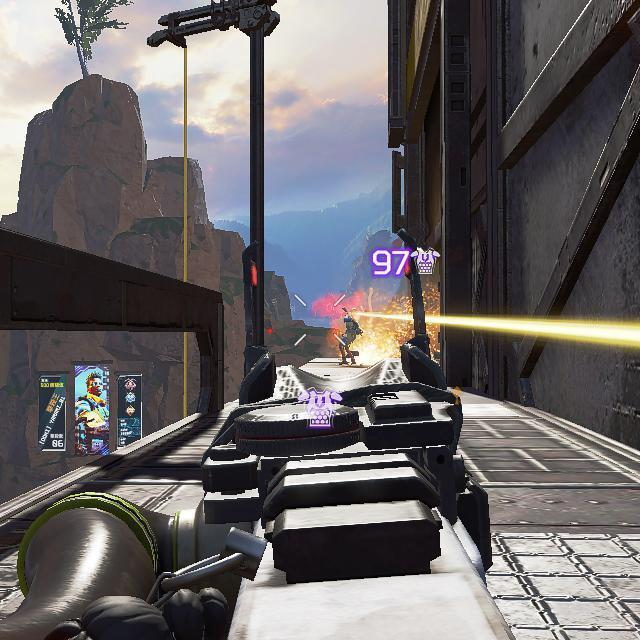avatar: (336, 306, 363, 366)
